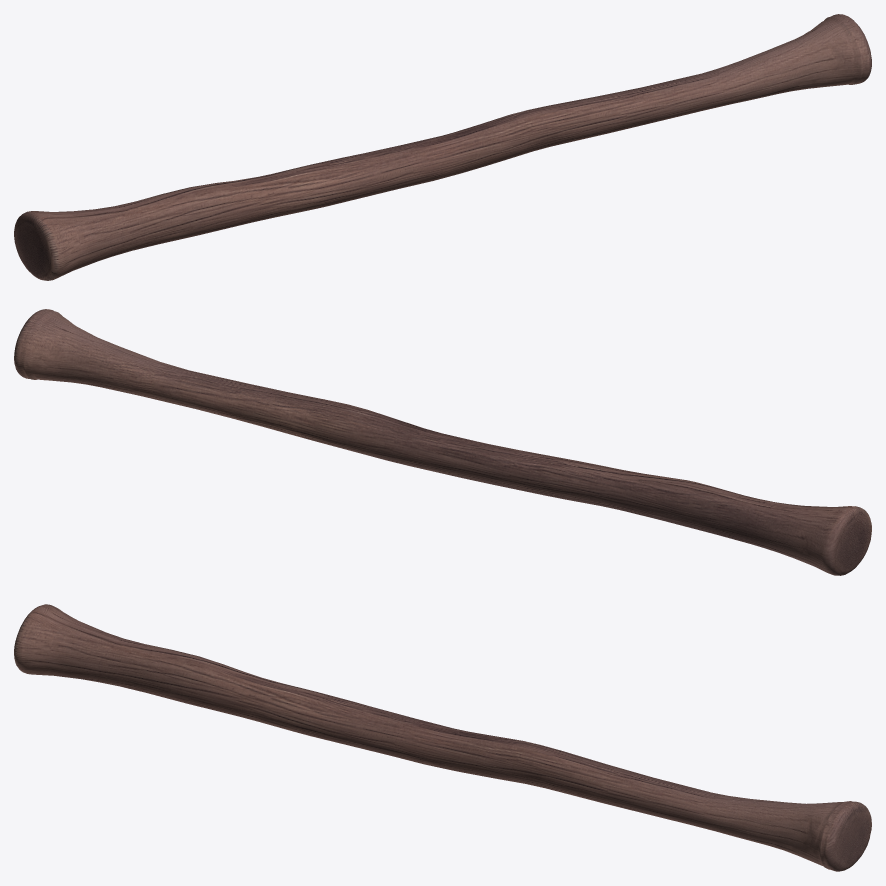
File: wooden_stick_texture.fbx
3 renders of one model, top to bottom at view 1: azimuth 30°, elevation 25°; view 2: azimuth 150°, elevation 25°; view 3: azimuth 330°, elevation 25°, orthographic.
Parts seen in each view (by area): view 1: Mesh1.0; view 2: Mesh1.0; view 3: Mesh1.0.
Part boxes in pixels (box(x1,y1,x2,y2)): Mesh1.0: box(14, 14, 871, 280); Mesh1.0: box(14, 309, 871, 575); Mesh1.0: box(14, 604, 871, 871).
Bounding box in the file's own units: 191 × 13.79 × 17.2.
Materials: 1 (1 with a texture image).
